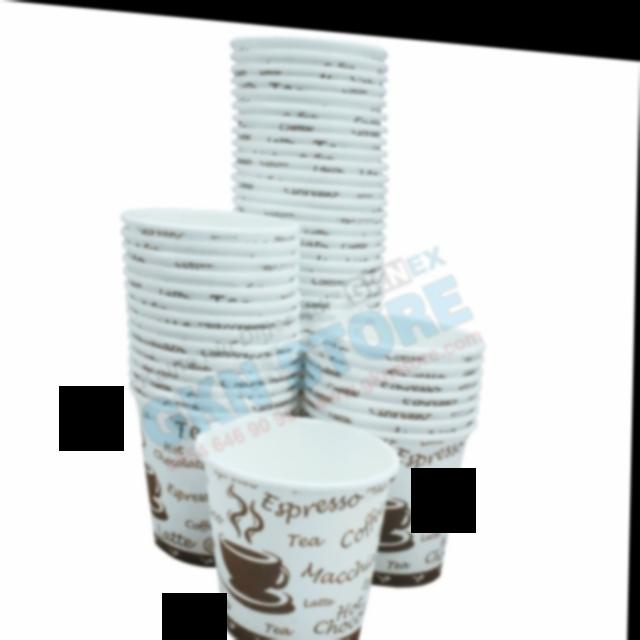karton-bardak: (197, 421, 401, 640)
